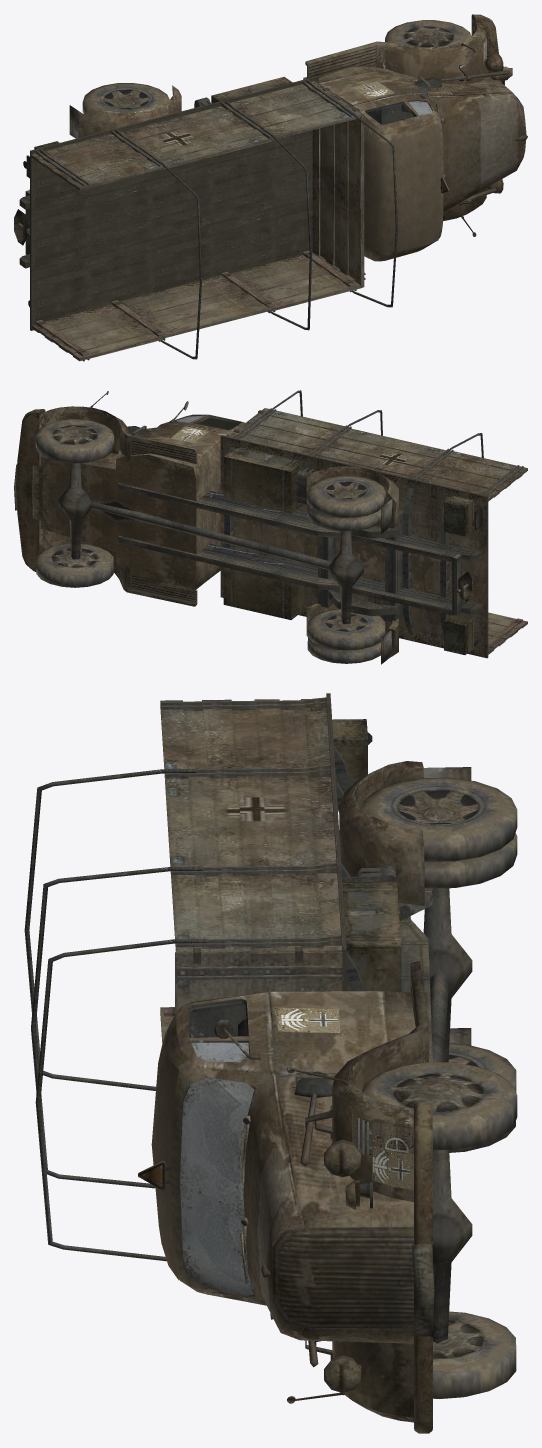
Rendered from vehicle_opel_blitz_desert.glb.
The picture shows the model from 3 angles, top to bottom: view 1: azimuth 30°, elevation 25°; view 2: azimuth 150°, elevation 25°; view 3: azimuth 270°, elevation 25°; orthographic projection. The views are drawn at different scales.
Bounding box in the file's own units: 255 × 93.26 × 121.
4 materials, 4 textured.
